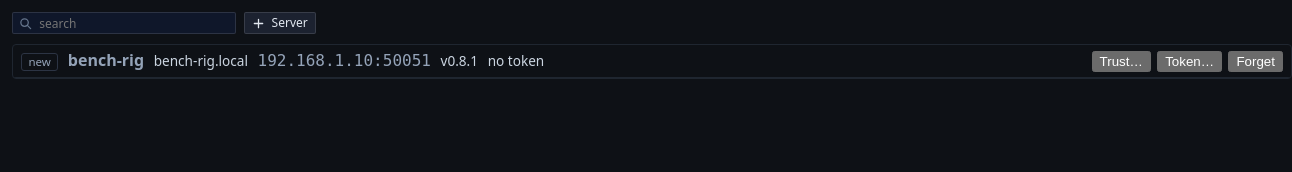
Test case: the trust lifecycle from a row › says an advertising row is held by the network, not the store
Check: the text "192.168.1.10:50051" is shown, box [258, 51, 431, 70]
Click the button with aria-label "forget 192.168.1.10:50051": click(1256, 62) [1228, 51, 1283, 72]
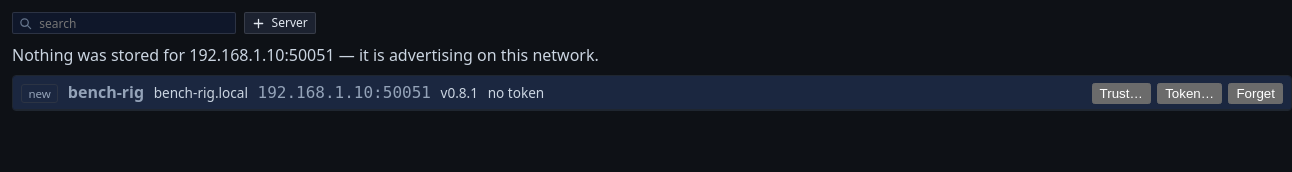
Check: the text "Nothing was stored for 192.168.1.10:50051 — it is advertising on this network." is shown, box [12, 44, 599, 66]
